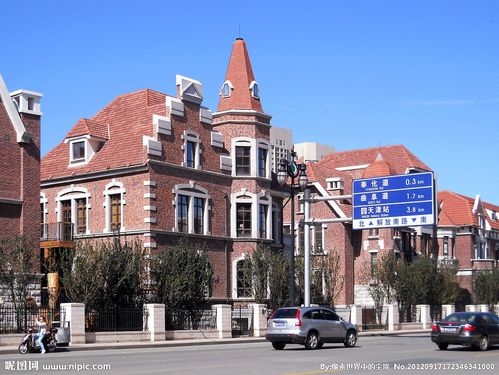buildings: (38, 68, 309, 286)
